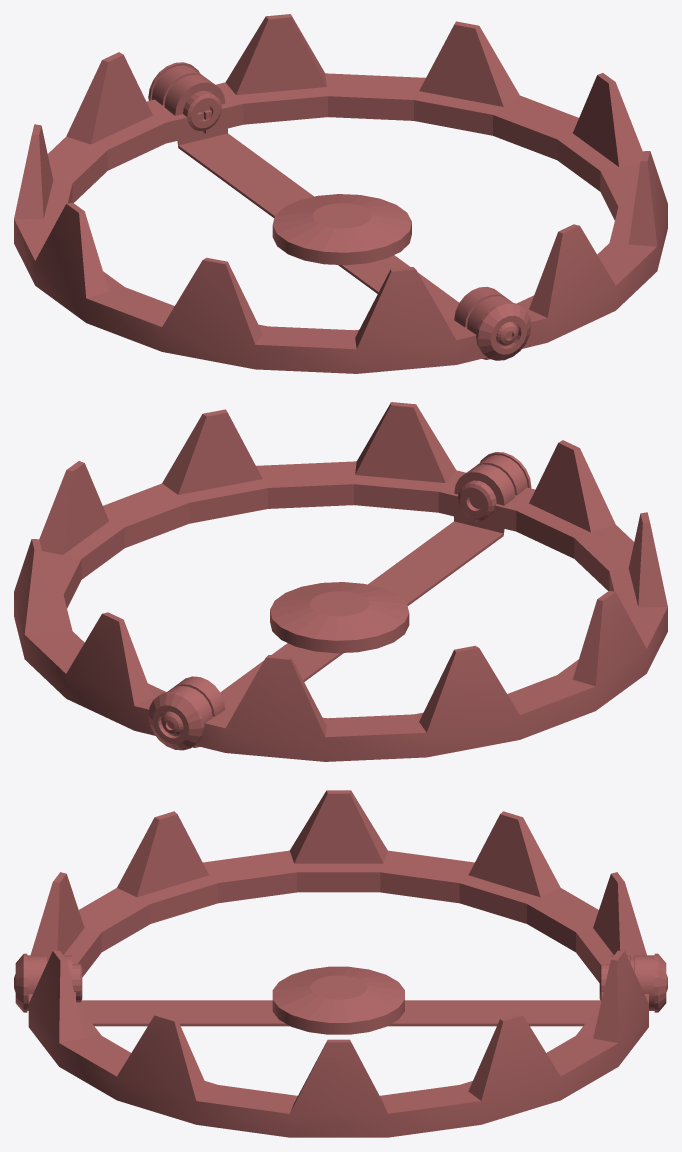
Rendered from BearTrap.fbx.
3 renders of one model, top to bottom at view 1: azimuth 30°, elevation 25°; view 2: azimuth 150°, elevation 25°; view 3: azimuth 270°, elevation 25°, orthographic. The views are drawn at different scales.
Visible parts, largest first — view 1: L_Jaw, R_Jaw, Trigger, Stabilizer, Joint_3, Joint_2; view 2: L_Jaw, R_Jaw, Trigger, Stabilizer, Joint_2, Joint_3; view 3: R_Jaw, L_Jaw, Stabilizer, Trigger, Joint_2, Joint_3.
Part boxes in pixels (x1=…): L_Jaw: x1=14, y1=52, x2=486, y2=373; R_Jaw: x1=203, y1=14, x2=667, y2=348; Trigger: x1=272, y1=194, x2=411, y2=265; Stabilizer: x1=177, y1=128, x2=490, y2=359; Joint_3: x1=454, y1=287, x2=531, y2=360; Joint_2: x1=148, y1=62, x2=225, y2=130; L_Jaw: x1=195, y1=440, x2=667, y2=761; R_Jaw: x1=14, y1=402, x2=477, y2=735; Trigger: x1=270, y1=582, x2=409, y2=653; Stabilizer: x1=192, y1=516, x2=504, y2=747; Joint_2: x1=148, y1=676, x2=225, y2=750; Joint_3: x1=454, y1=452, x2=531, y2=525; R_Jaw: x1=28, y1=950, x2=648, y2=1137; L_Jaw: x1=30, y1=790, x2=646, y2=982; Stabilizer: x1=76, y1=1000, x2=601, y2=1026; Trigger: x1=272, y1=966, x2=404, y2=1034; Joint_2: x1=599, y1=953, x2=667, y2=1012; Joint_3: x1=14, y1=953, x2=82, y2=1012.
Size of the model in its own units: 12.96 by 2.24 by 13.61.
